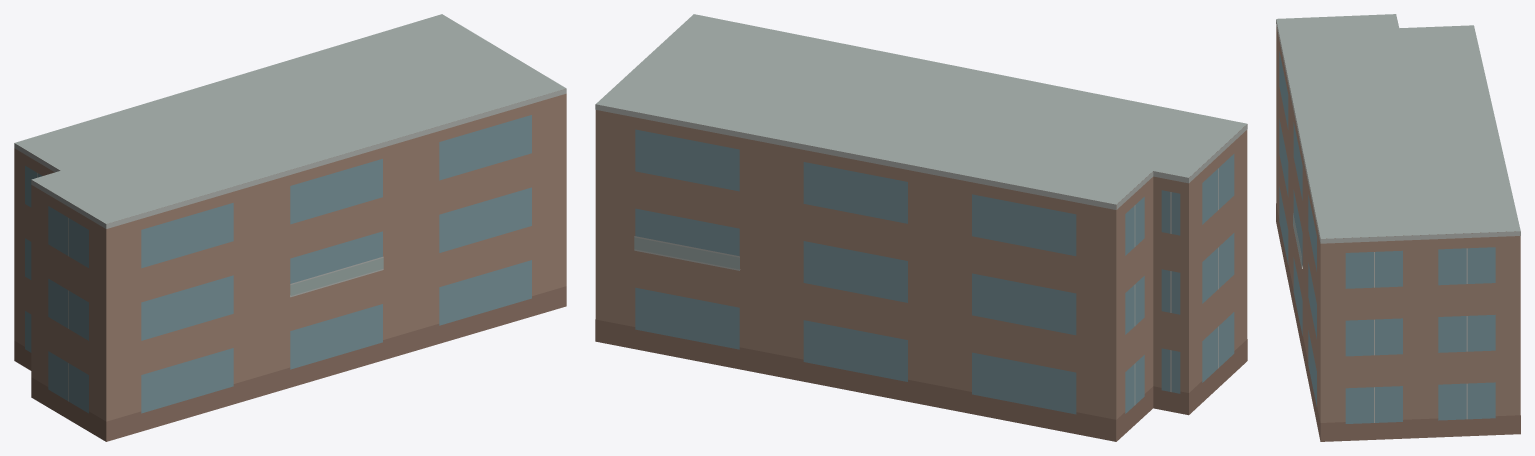
File: survey-upis-32832252.glb
3 views of the same model, side by side, from view 1: azimuth 30°, elevation 25°; view 2: azimuth 150°, elevation 25°; view 3: azimuth 270°, elevation 25° (orthographic). The views are drawn at different scales.
Parts seen in each view (by area): view 1: survey-upis-32832252.tmp; view 2: survey-upis-32832252.tmp; view 3: survey-upis-32832252.tmp.
Boxes of the visible parts, x1=… form: survey-upis-32832252.tmp: x1=14, y1=14, x2=566, y2=441; survey-upis-32832252.tmp: x1=595, y1=14, x2=1247, y2=441; survey-upis-32832252.tmp: x1=1276, y1=14, x2=1520, y2=441.
Bounding box in the file's own units: 24.98 × 10.5 × 11.49.
